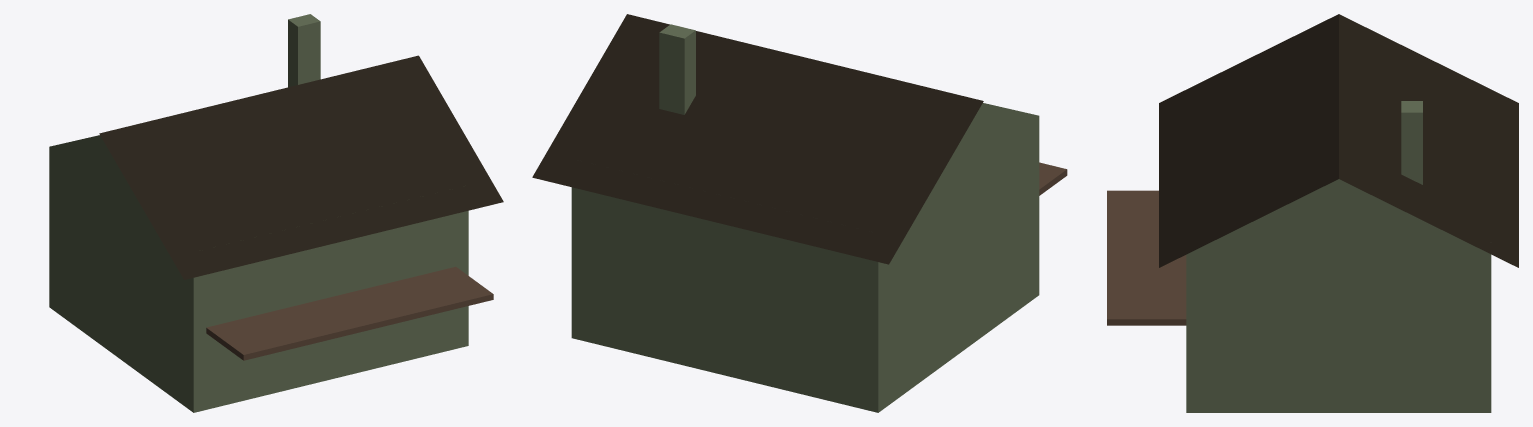
The model's file is rw-craftsman.towns-v1.lod2.glb.
The picture shows the model from 3 angles, left to right: view 1: azimuth 30°, elevation 25°; view 2: azimuth 150°, elevation 25°; view 3: azimuth 270°, elevation 25°; orthographic projection. The views are drawn at different scales.
Parts seen in each view (by area): view 1: rw-craftsman; view 2: rw-craftsman; view 3: rw-craftsman.
Boxes of the visible parts, bbox=[...] form: rw-craftsman: bbox=[49, 14, 503, 412]; rw-craftsman: bbox=[532, 14, 1067, 412]; rw-craftsman: bbox=[1107, 14, 1518, 412].
Size of the model in its own units: 12.8 by 10 by 13.5.
